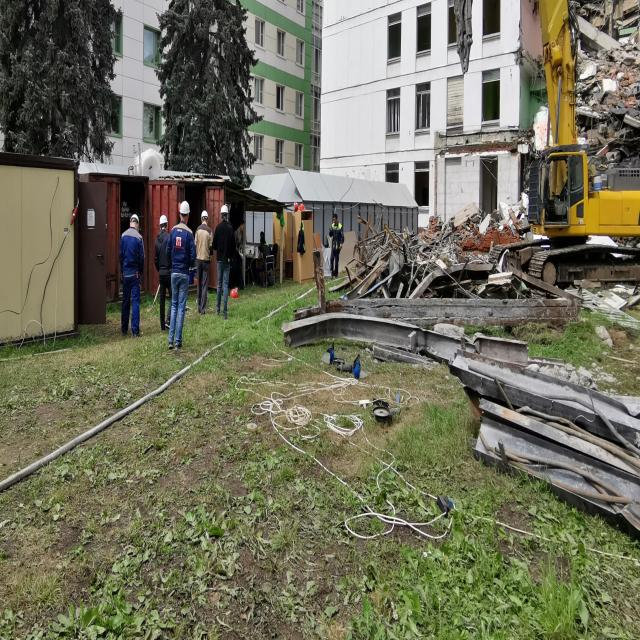Helmet: (181, 202, 191, 225), (130, 215, 141, 231), (221, 206, 230, 223), (160, 216, 169, 232), (201, 212, 210, 225)
NoHelmet: (239, 221, 246, 233), (333, 215, 339, 225), (261, 238, 266, 246)
